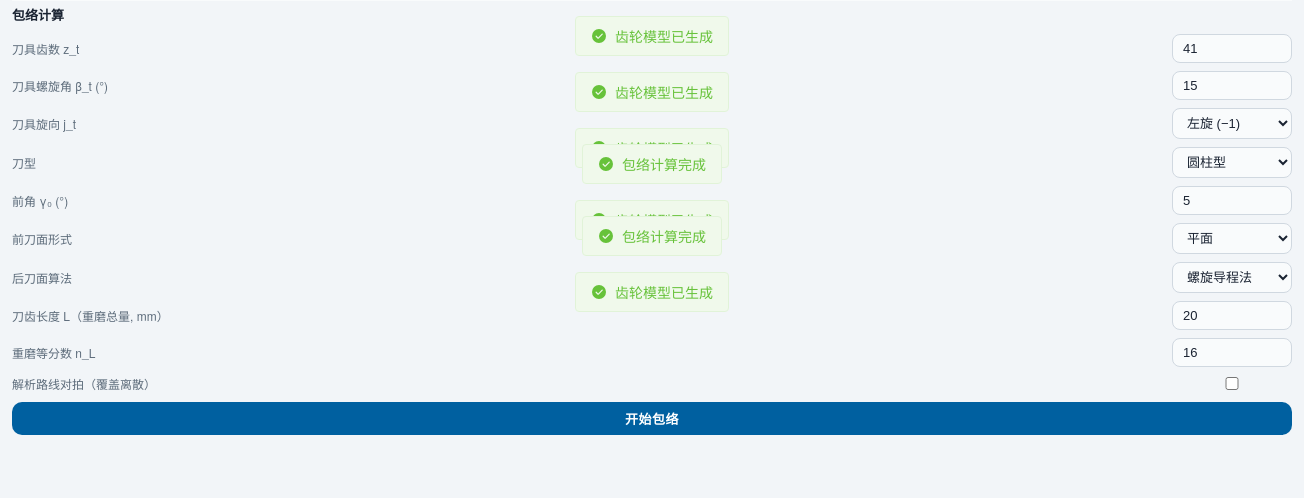
it: WorkpieceViewer — 包络计算（子 PRD-2 离散包络） › 勾选解析路线对拍 → 调 analytic + 显示互检偏差
The image size is (1304, 498).
Step 1. Click the checkbox with test id "use-analytic" → [1232, 384], box [1172,377,1292,390]
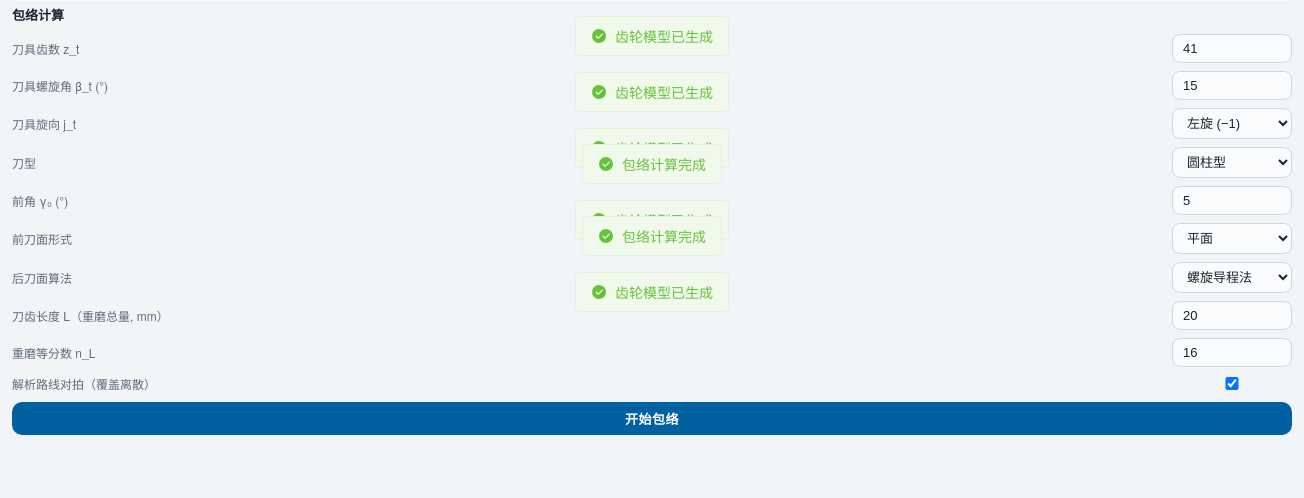
Step 2. Click the button with test id "run-envelope" → [652, 418], box [12,402,1292,435]
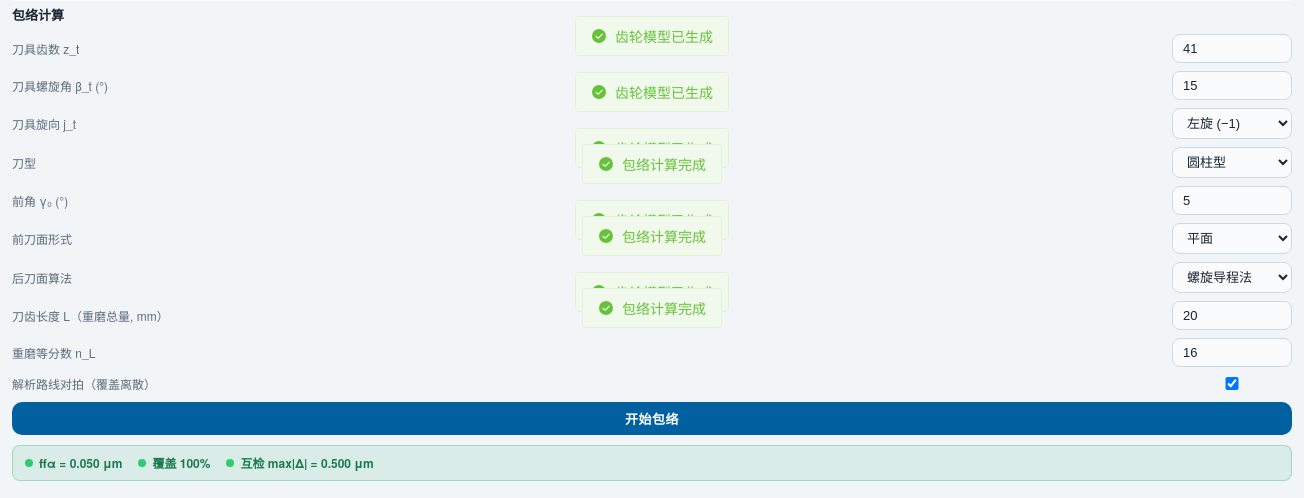
Now the text "互检" is shown, box [240,454,374,472]
